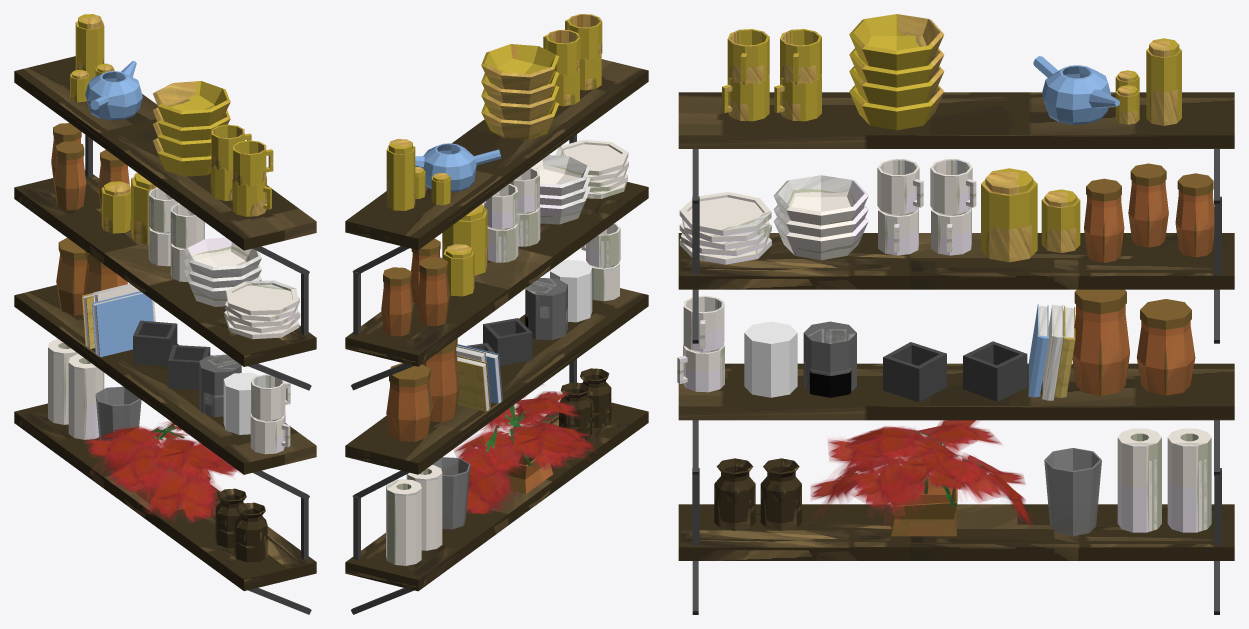
Rendered from kitchenDeko2.glb.
3 views of the same model, side by side, from view 1: azimuth 30°, elevation 25°; view 2: azimuth 150°, elevation 25°; view 3: azimuth 270°, elevation 25° (orthographic). The views are drawn at different scales.
Parts seen in each view (by area): view 1: Cylinder.192; view 2: Cylinder.192; view 3: Cylinder.192.
Boxes of the visible parts, <box> form: Cylinder.192: <box>14,14,316,614</box>; Cylinder.192: <box>345,14,648,614</box>; Cylinder.192: <box>677,14,1234,614</box>.
Bounding box in the file's own units: 0.5882 × 1.69 × 1.51.
Materials: 13 (9 with a texture image).
